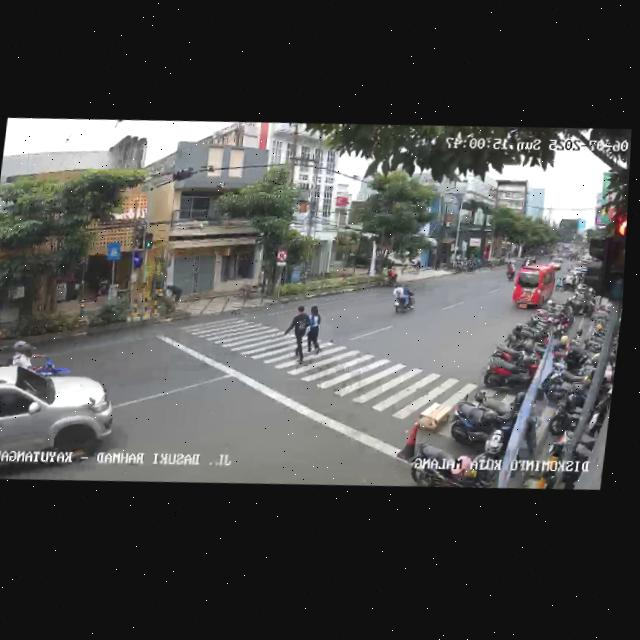car: (0, 353, 124, 487), (510, 262, 557, 313)
motorcycle: (390, 280, 418, 315), (505, 261, 516, 281)
person: (278, 303, 314, 366), (303, 303, 325, 355)
